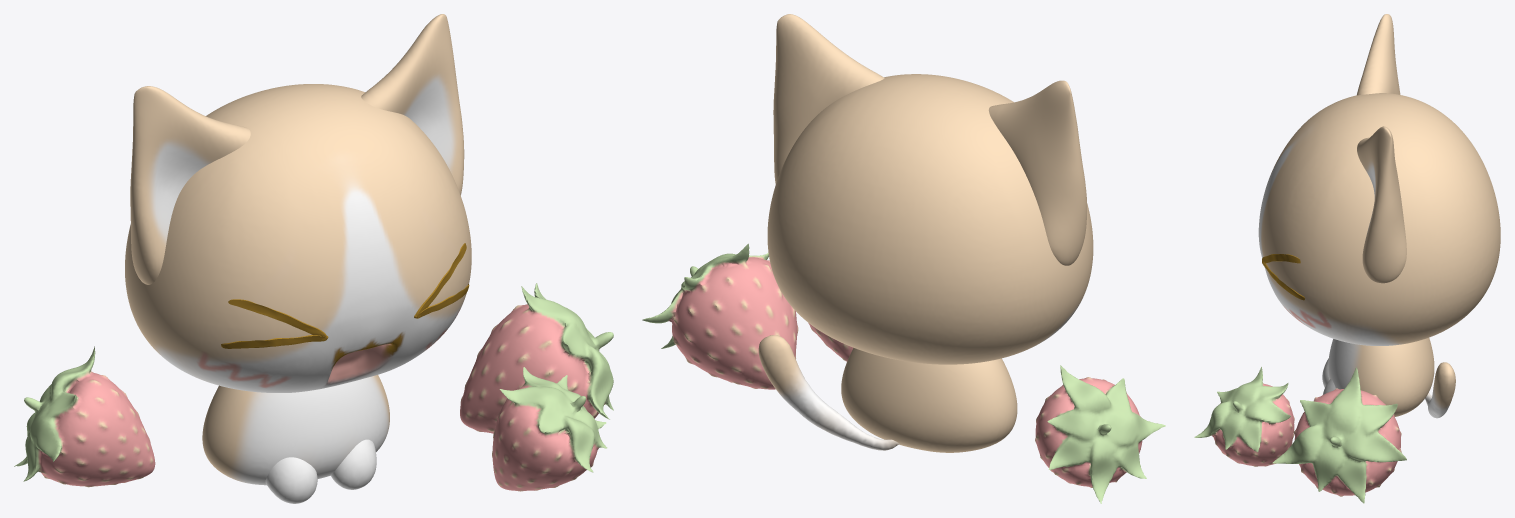
The model's file is cute_cat_with_strawberries.glb.
3 views of the same model, side by side, from view 1: azimuth 30°, elevation 25°; view 2: azimuth 150°, elevation 25°; view 3: azimuth 270°, elevation 25° (orthographic). The views are drawn at different scales.
Parts seen in each view (by area): view 1: Object_17, Object_13, Object_19, Object_5, Object_7, Object_3, Object_11, Object_15; view 2: Object_17, Object_13, Object_19, Object_7, Object_5, Object_9; view 3: Object_17, Object_7, Object_13, Object_3, Object_19, Object_9, Object_15.
Part boxes in pixels (<box>): Object_17: <box>125,84,471,392</box>; Object_13: <box>130,14,464,284</box>; Object_19: <box>202,375,389,485</box>; Object_5: <box>14,346,155,487</box>; Object_7: <box>460,283,613,433</box>; Object_3: <box>492,367,607,491</box>; Object_11: <box>265,439,376,503</box>; Object_15: <box>221,243,469,348</box>; Object_17: <box>767,74,1093,364</box>; Object_13: <box>773,14,1086,265</box>; Object_19: <box>841,348,1017,452</box>; Object_7: <box>642,243,798,389</box>; Object_5: <box>1035,365,1165,503</box>; Object_9: <box>758,335,899,450</box>; Object_17: <box>1258,93,1500,345</box>; Object_7: <box>1272,367,1406,503</box>; Object_13: <box>1357,14,1406,283</box>; Object_3: <box>1194,367,1294,466</box>; Object_19: <box>1328,337,1434,416</box>; Object_9: <box>1425,362,1455,418</box>; Object_15: <box>1262,254,1304,300</box>.
Size of the model in its own units: 6.39 by 4.71 by 3.91.
